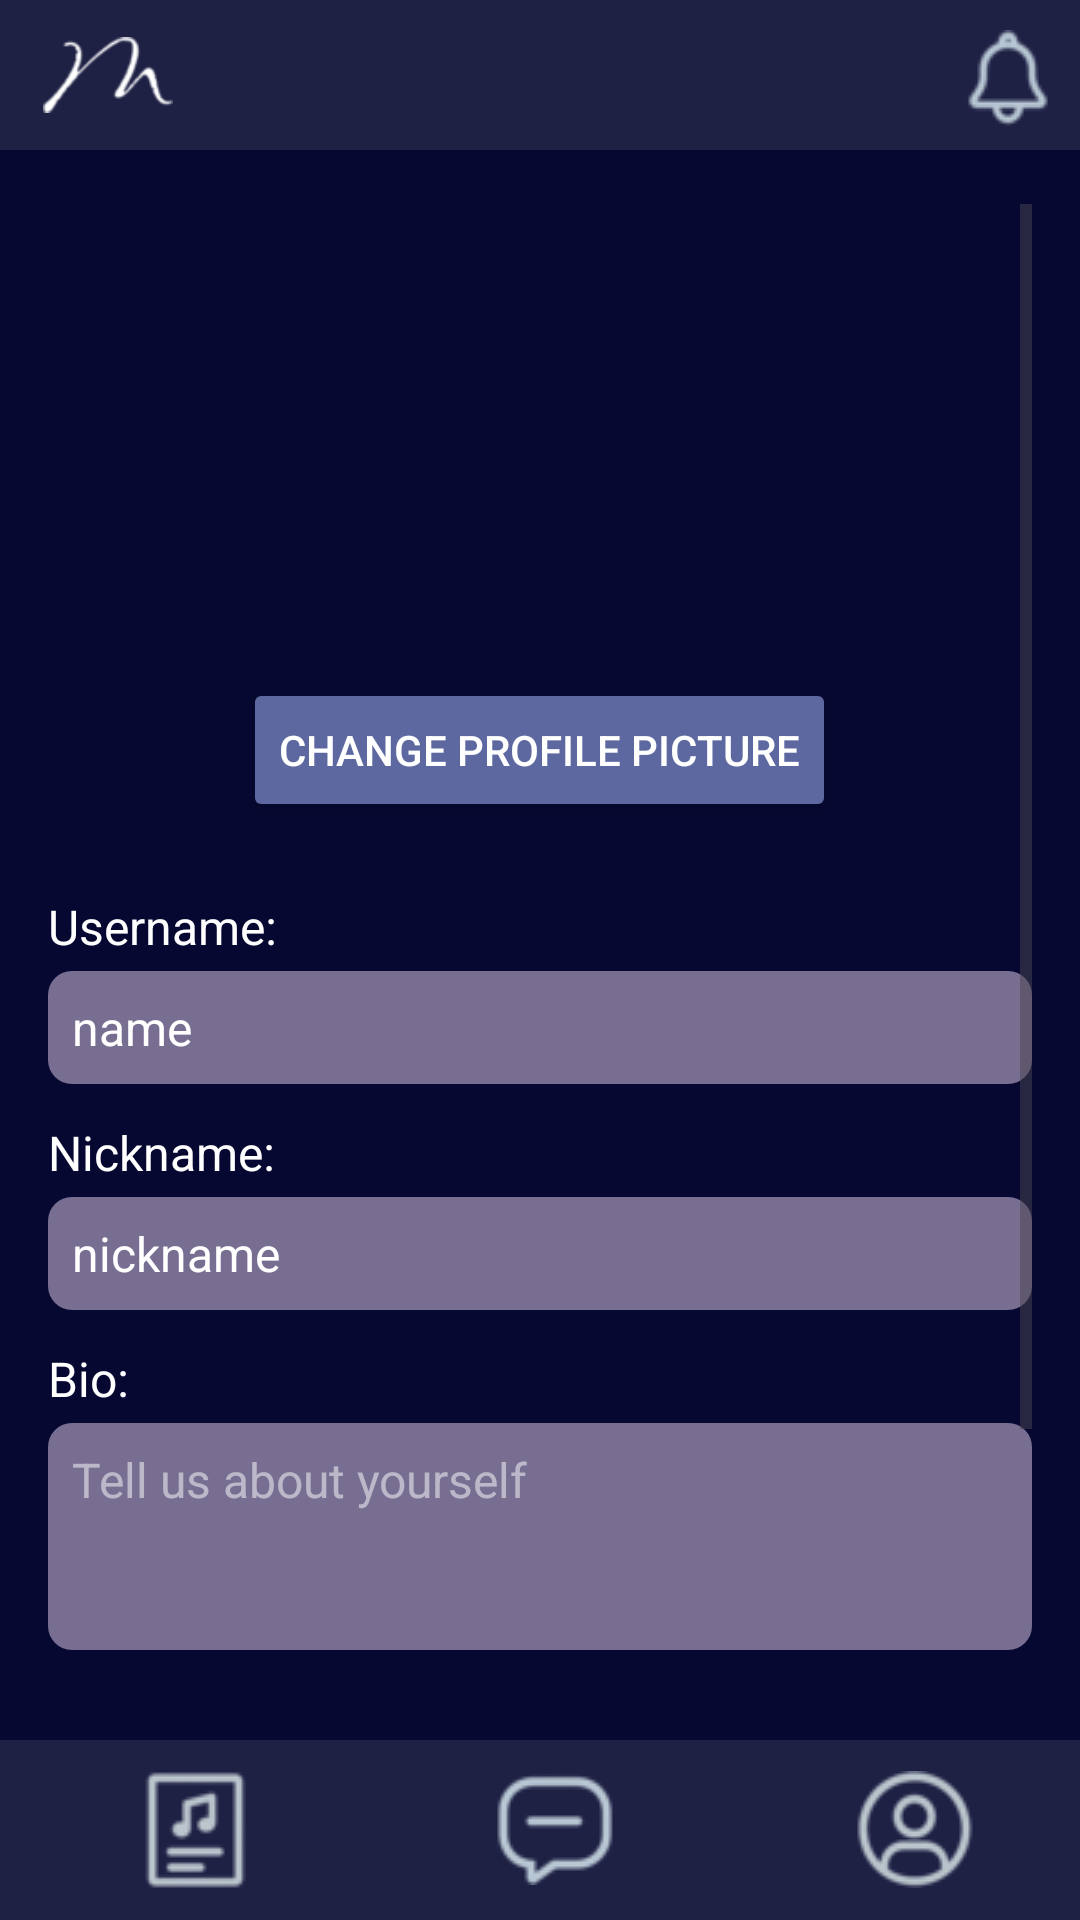

Named icons in this screenshot (1080 x 1920) and their centers, (x,y):
bell: (1008,77)
feed: (195,1830)
profile: (914,1829)
